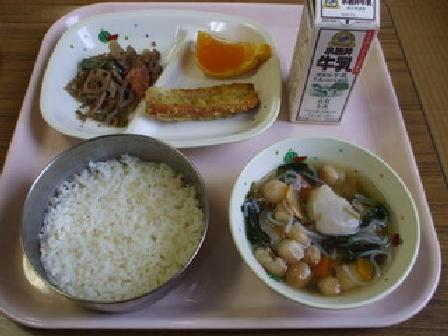Citrus: (183, 19, 273, 80)
Milk: (282, 0, 385, 126)
Rice: (24, 139, 199, 305)
Soups: (238, 142, 416, 303)
cooked food based on meat: (58, 31, 154, 123)
snacks: (140, 76, 261, 133)
